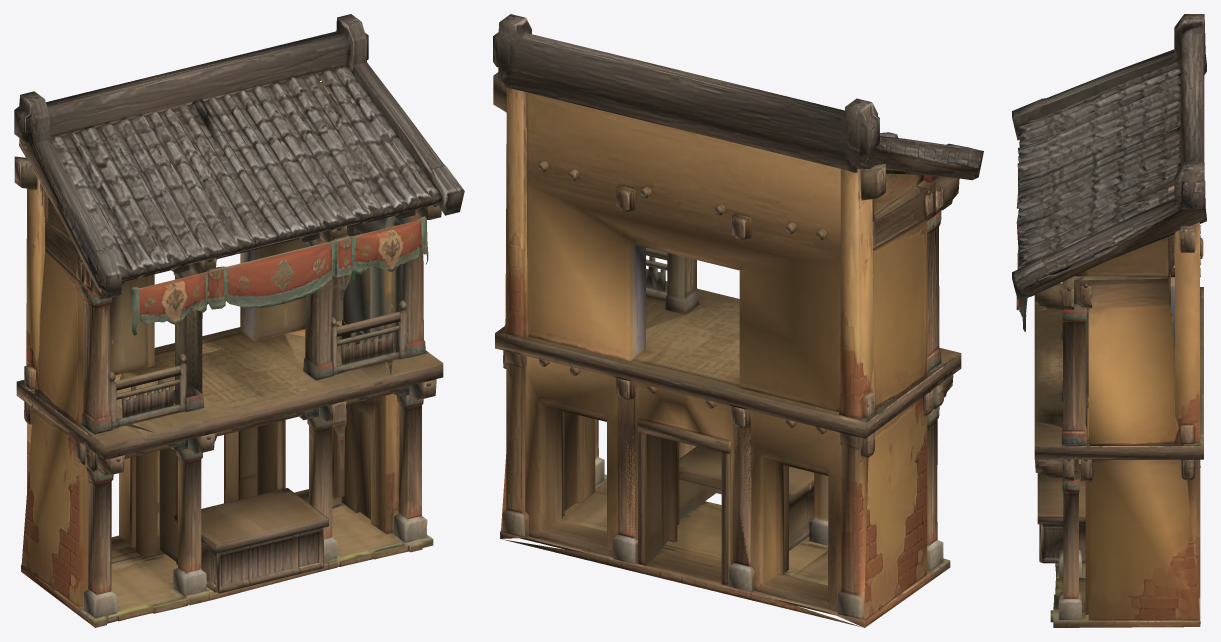
The model's file is SM_Tripo_DesertShopHouse.glb.
3 renders of one model, left to right at view 1: azimuth 30°, elevation 25°; view 2: azimuth 150°, elevation 25°; view 3: azimuth 270°, elevation 25°, orthographic. The views are drawn at different scales.
Parts seen in each view (by area): view 1: SM_Tripo_DesertShopHouse_LOD0; view 2: SM_Tripo_DesertShopHouse_LOD0; view 3: SM_Tripo_DesertShopHouse_LOD0.
Boxes of the visible parts, bbox=[...] form: SM_Tripo_DesertShopHouse_LOD0: bbox=[14, 14, 464, 627]; SM_Tripo_DesertShopHouse_LOD0: bbox=[493, 14, 983, 627]; SM_Tripo_DesertShopHouse_LOD0: bbox=[1012, 14, 1206, 627].
Size of the model in its own units: 6.32 by 8 by 3.09.
Materials: 1 (1 with a texture image).
